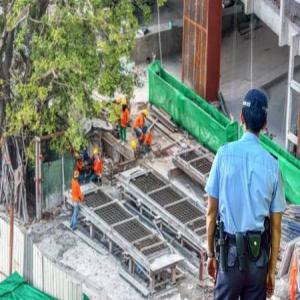blue: (242, 89, 269, 135)
yellow: (142, 109, 150, 120), (94, 148, 100, 158), (75, 171, 81, 181), (122, 99, 128, 108)
